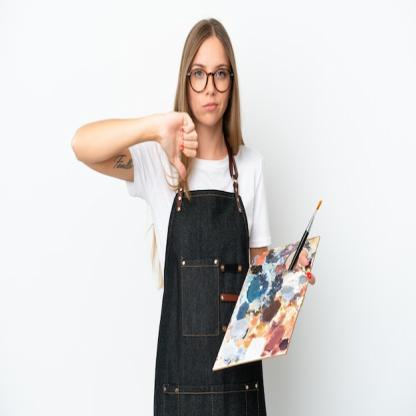thumb_down: (161, 108, 200, 183)
